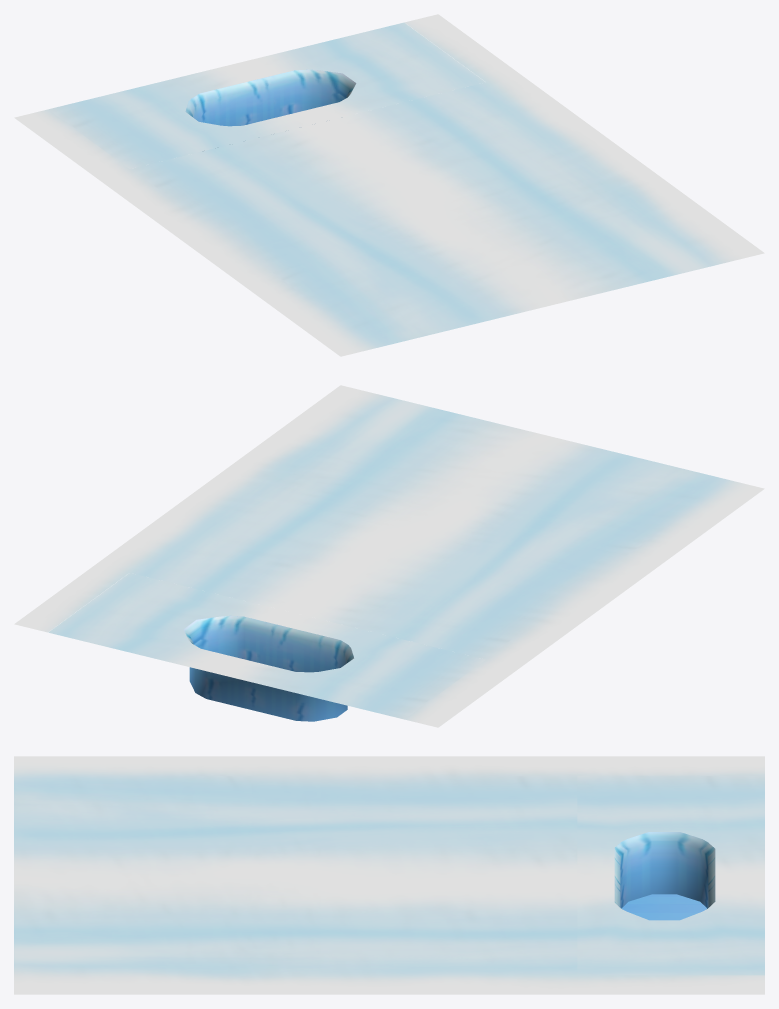
File: Hole_M_01_M.FBX
3 renders of one model, top to bottom at view 1: azimuth 30°, elevation 25°; view 2: azimuth 150°, elevation 25°; view 3: azimuth 270°, elevation 25°, orthographic. The views are drawn at different scales.
Visible parts, largest first — view 1: Object127; view 2: Object127; view 3: Object127.
Boxes of the visible parts, <box> form: Object127: <box>14,14,764,356</box>; Object127: <box>14,385,764,727</box>; Object127: <box>14,756,764,994</box>.
Bounding box in the file's own units: 600 × 70 × 800.
